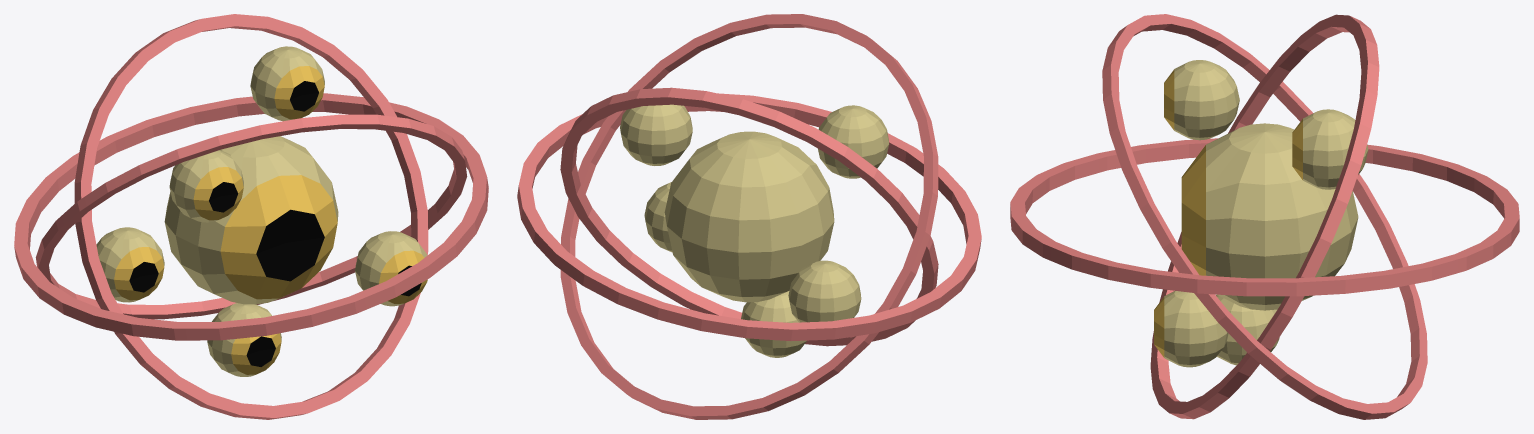
File: EyeblendBIIGAnim_v4.fbx
The picture shows the model from 3 angles, left to right: view 1: azimuth 30°, elevation 25°; view 2: azimuth 150°, elevation 25°; view 3: azimuth 270°, elevation 25°; orthographic projection. The views are drawn at different scales.
Visible parts, largest first — view 1: Circle1.001, Eye.007, Eye.001, Eye.006, Eye.012, Eye.011, Eye.010; view 2: Circle1.001, Eye.007, Eye.012, Eye.001, Eye.006, Eye.010, Eye.011; view 3: Circle1.001, Eye.007, Eye.006, Eye.011, Eye.001, Eye.010.
Part boxes in pixels (x1,y1,x2,y2): Circle1.001: (14, 14, 488, 419); Eye.007: (164, 131, 338, 304); Eye.001: (250, 46, 324, 121); Eye.006: (169, 150, 243, 222); Eye.012: (96, 227, 164, 302); Eye.011: (355, 231, 427, 306); Eye.010: (207, 303, 281, 376); Circle1.001: (517, 14, 981, 419); Eye.007: (664, 131, 834, 302); Eye.012: (788, 260, 861, 322); Eye.001: (620, 104, 692, 165); Eye.006: (818, 105, 888, 178); Eye.010: (741, 291, 806, 357); Eye.011: (644, 182, 672, 252); Circle1.001: (1010, 14, 1519, 419); Eye.007: (1181, 123, 1358, 310); Eye.006: (1164, 60, 1239, 140); Eye.011: (1154, 291, 1228, 367); Eye.001: (1292, 109, 1368, 189); Eye.010: (1216, 295, 1279, 365).
Bounding box in the file's own units: 2032 × 1556 × 2046.
